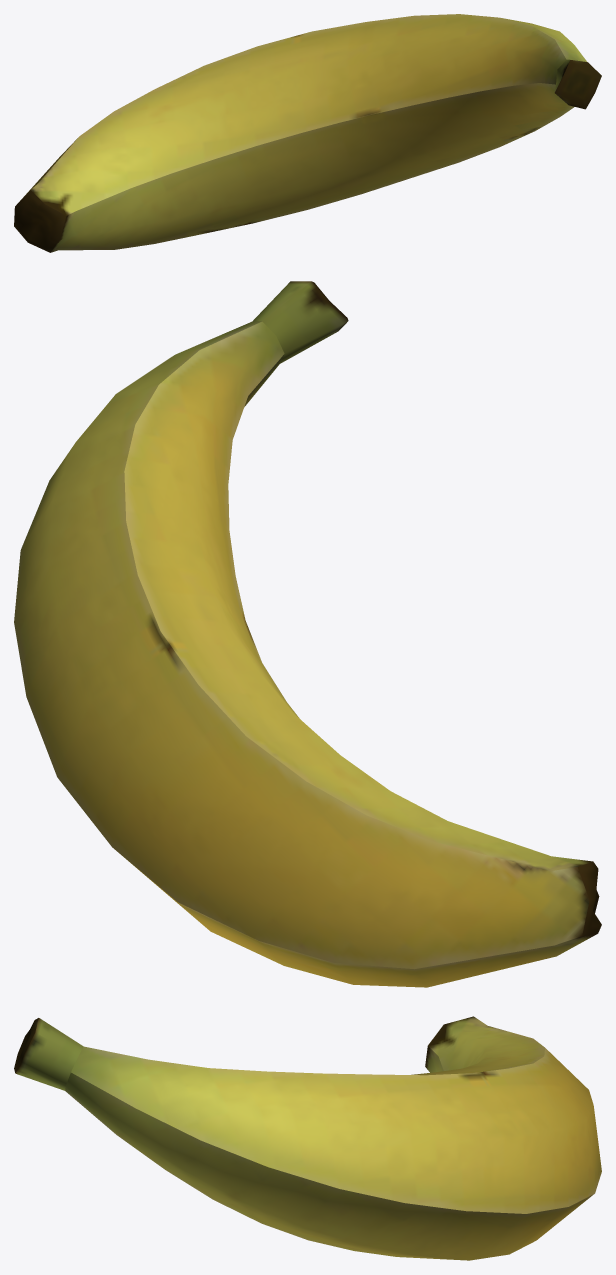
File: Banana.obj
The picture shows the model from 3 angles, top to bottom: view 1: azimuth 30°, elevation 25°; view 2: azimuth 150°, elevation 25°; view 3: azimuth 270°, elevation 25°; orthographic projection. The views are drawn at different scales.
Visible parts, largest first — view 1: Banana; view 2: Banana; view 3: Banana.
Part boxes in pixels (bbox=[...]): Banana: bbox=[14, 14, 601, 252]; Banana: bbox=[14, 281, 601, 987]; Banana: bbox=[14, 1016, 601, 1260].
Size of the model in its own units: 1.58 by 0.8711 by 1.47.
